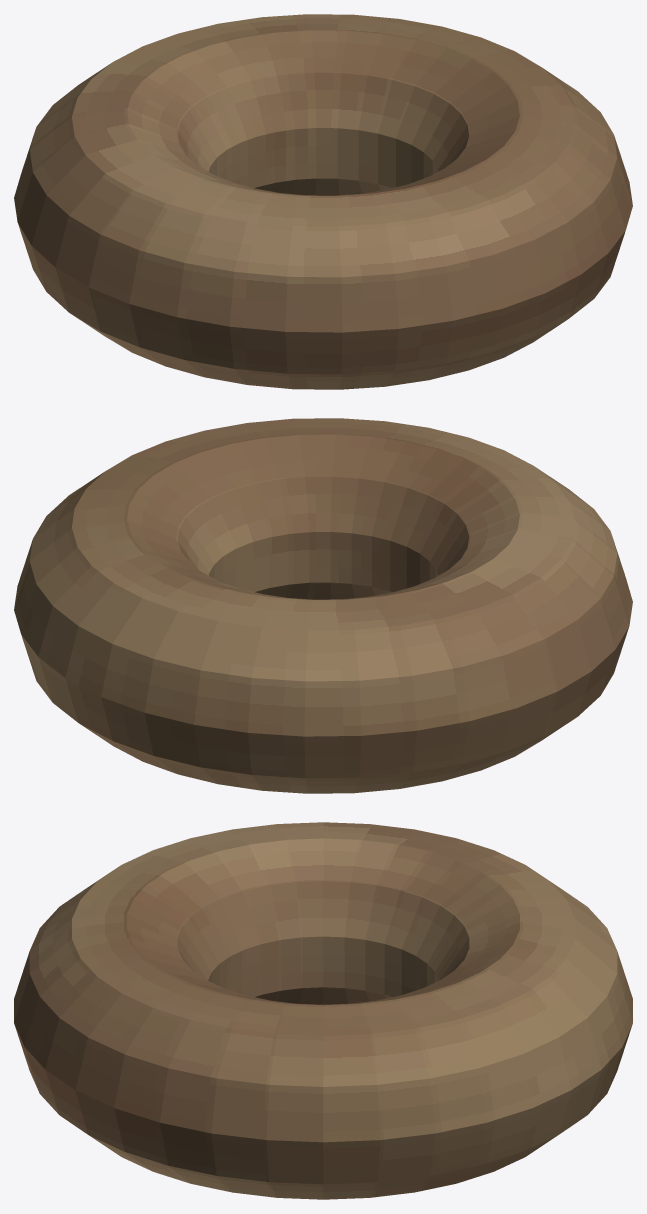
The model's file is donut.glb.
The picture shows the model from 3 angles, top to bottom: view 1: azimuth 30°, elevation 25°; view 2: azimuth 150°, elevation 25°; view 3: azimuth 270°, elevation 25°; orthographic projection.
Parts seen in each view (by area): view 1: Torus; view 2: Torus; view 3: Torus.
Boxes of the visible parts, <box> form: Torus: <box>14,14,632,389</box>; Torus: <box>14,418,632,793</box>; Torus: <box>14,822,632,1199</box>.
Size of the model in its own units: 2.94 by 0.9304 by 2.93.
Materials: 1 (1 with a texture image).
